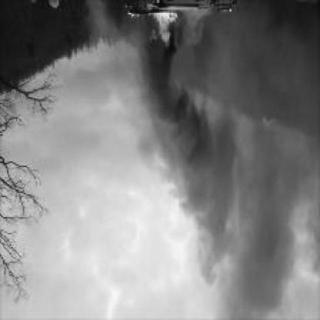Fire: (124, 10, 180, 48)
